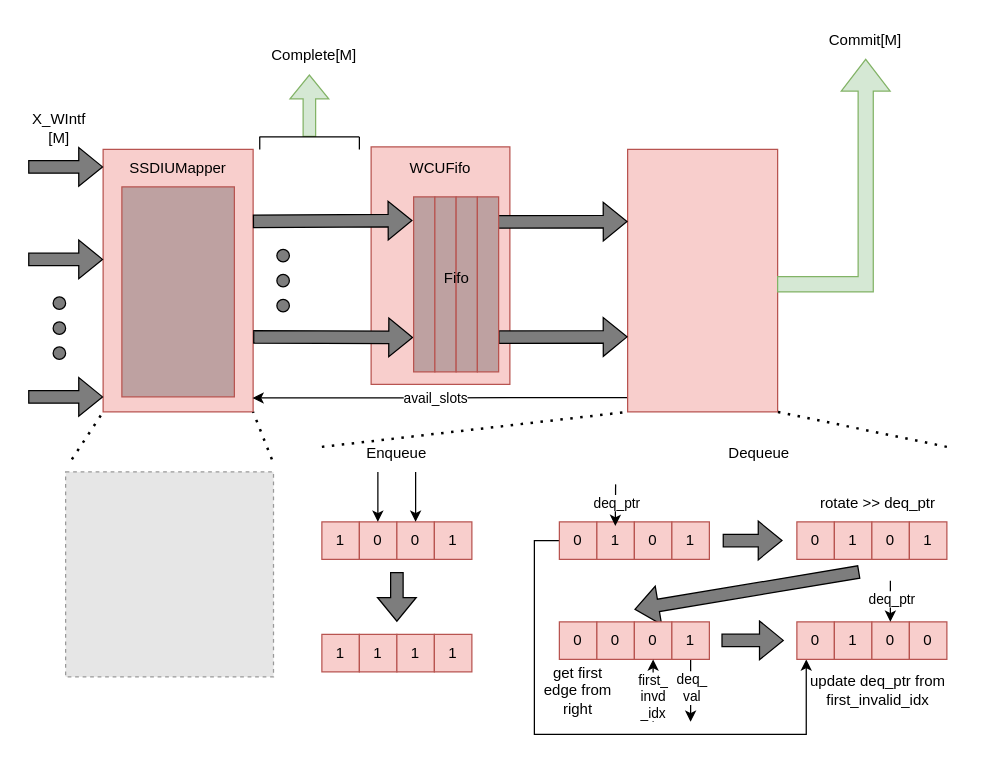
Image size: 1005x766. Some labels were removed from this diagram. Grey dashed boxes stand in for pictures. The shapes that lost their labels are listed below. From the top down, each one's centre as x and y in pixels, then its label:
At (177,291): "ISLIPCore".
At (702,280): "SSROB".
